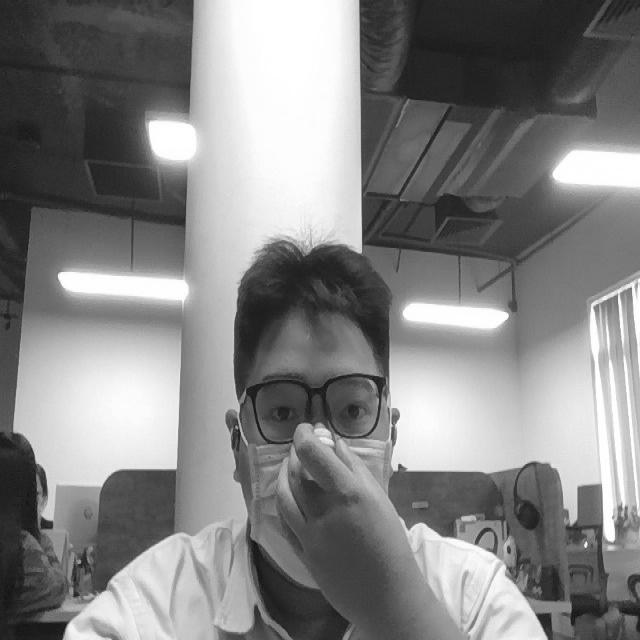fake: (217, 409, 403, 597)
real: (221, 217, 410, 607), (249, 359, 388, 443)
